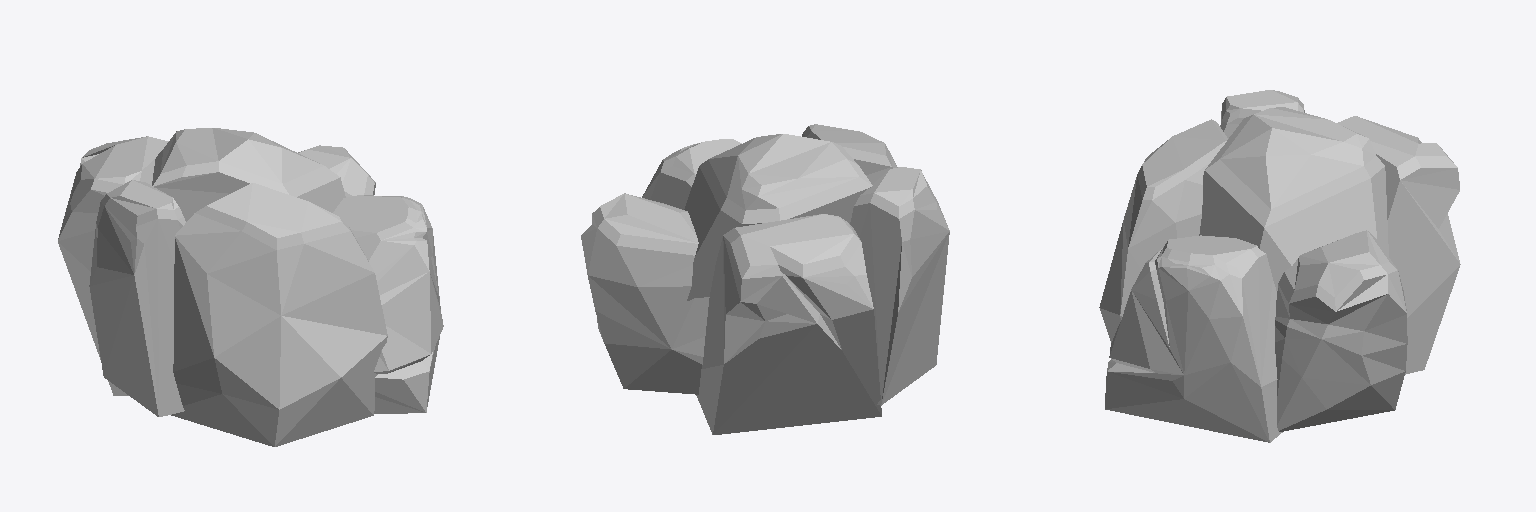
Rendered from Rock2.obj.
3 renders of one model, left to right at view 1: azimuth 30°, elevation 25°; view 2: azimuth 150°, elevation 25°; view 3: azimuth 270°, elevation 25°, orthographic.
Parts seen in each view (by area): view 1: PP_Rock_Pile_Forest_Moss_10.002; view 2: PP_Rock_Pile_Forest_Moss_10.002; view 3: PP_Rock_Pile_Forest_Moss_10.002.
Boxes of the visible parts, x1=… form: PP_Rock_Pile_Forest_Moss_10.002: x1=58, y1=128, x2=443, y2=446; PP_Rock_Pile_Forest_Moss_10.002: x1=581, y1=124, x2=949, y2=434; PP_Rock_Pile_Forest_Moss_10.002: x1=1099, y1=90, x2=1460, y2=442.
Bounding box in the file's own units: 5.06 × 3.89 × 5.2.